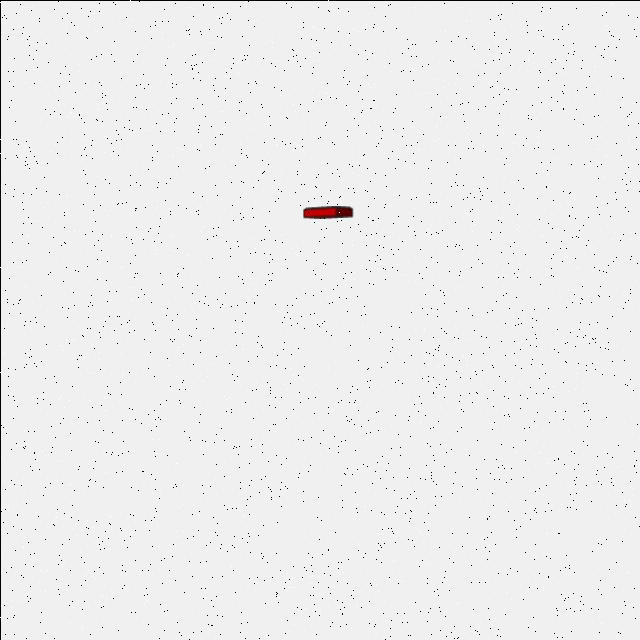3069b: (298, 200, 356, 222)
